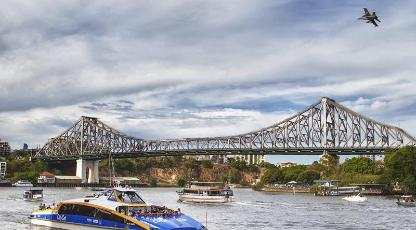F15: (356, 7, 380, 26)
